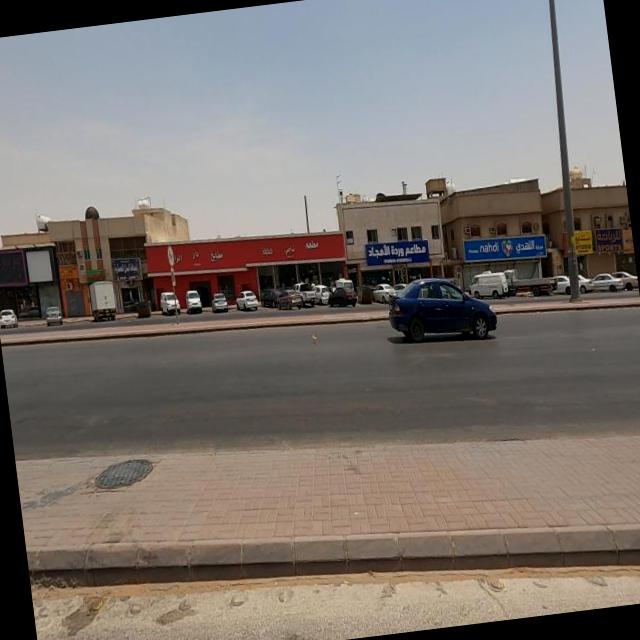debris: (289, 306, 338, 372)
